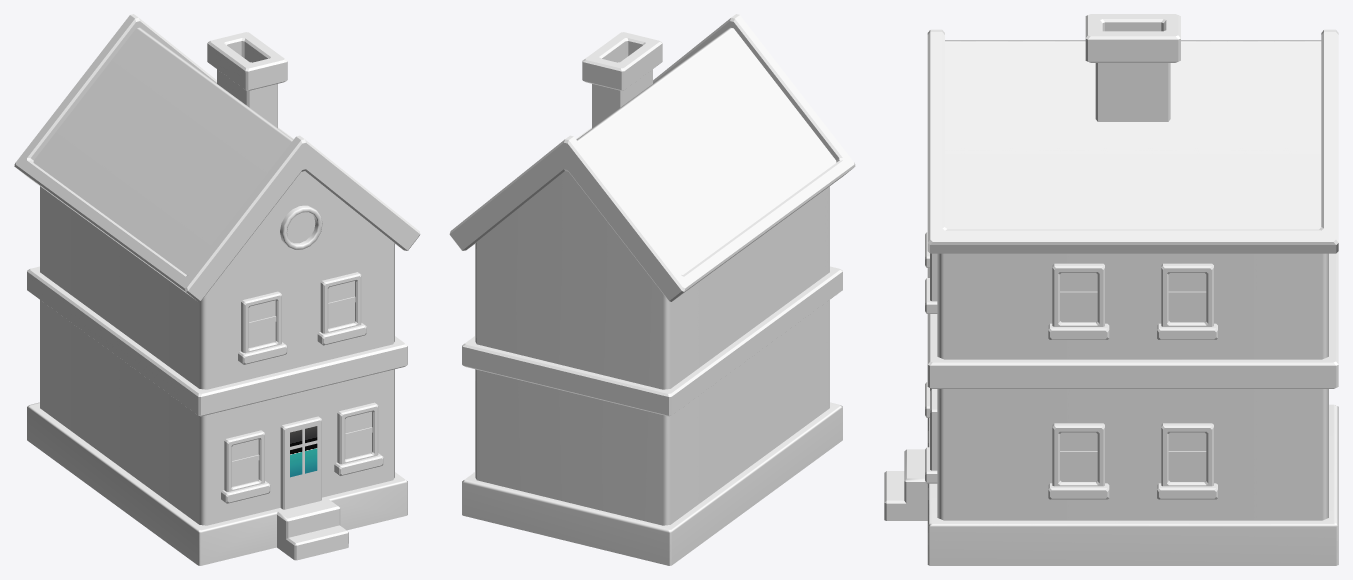
The model's file is House_11.fbx.
3 renders of one model, left to right at view 1: azimuth 30°, elevation 25°; view 2: azimuth 150°, elevation 25°; view 3: azimuth 270°, elevation 25°, orthographic. The views are drawn at different scales.
Visible parts, largest first — view 1: House_11; view 2: House_11; view 3: House_11.
Boxes of the visible parts, box(x1,y1,x2,y2) form: House_11: box(14, 14, 420, 565); House_11: box(449, 14, 855, 565); House_11: box(884, 14, 1338, 565).
Size of the model in its own units: 431 by 736 by 609.
